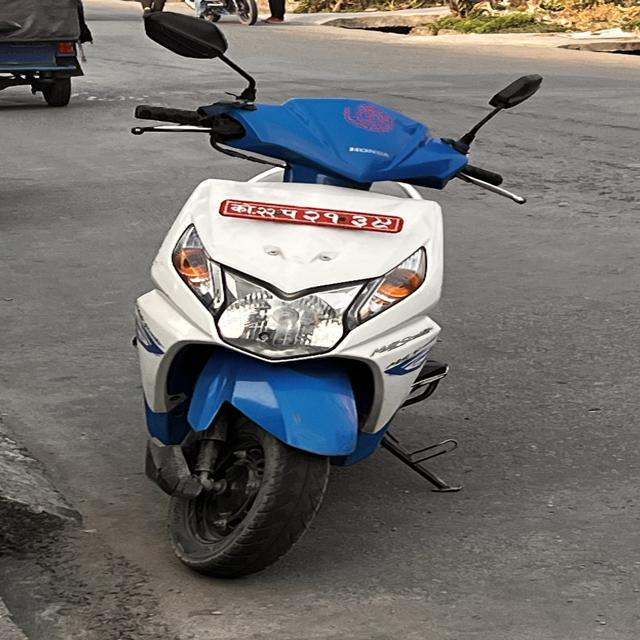license_plate: (197, 200, 406, 236)
